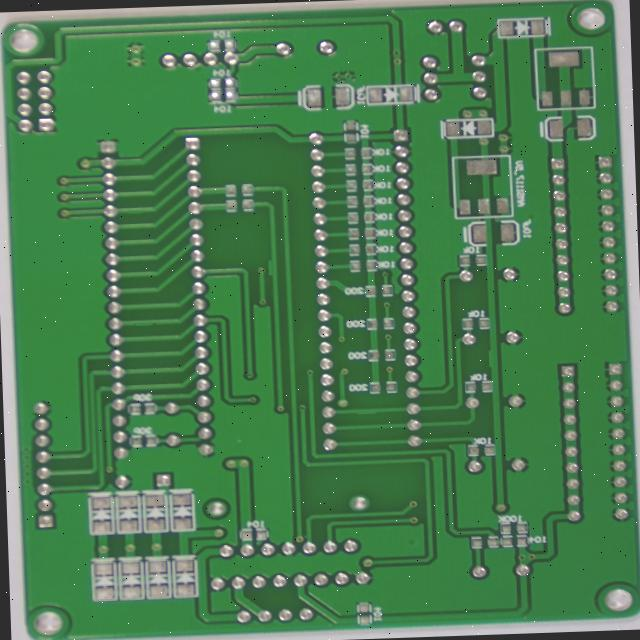spur: (491, 349, 509, 374), (268, 258, 283, 280), (362, 408, 387, 421), (134, 321, 156, 334), (126, 207, 148, 218)
